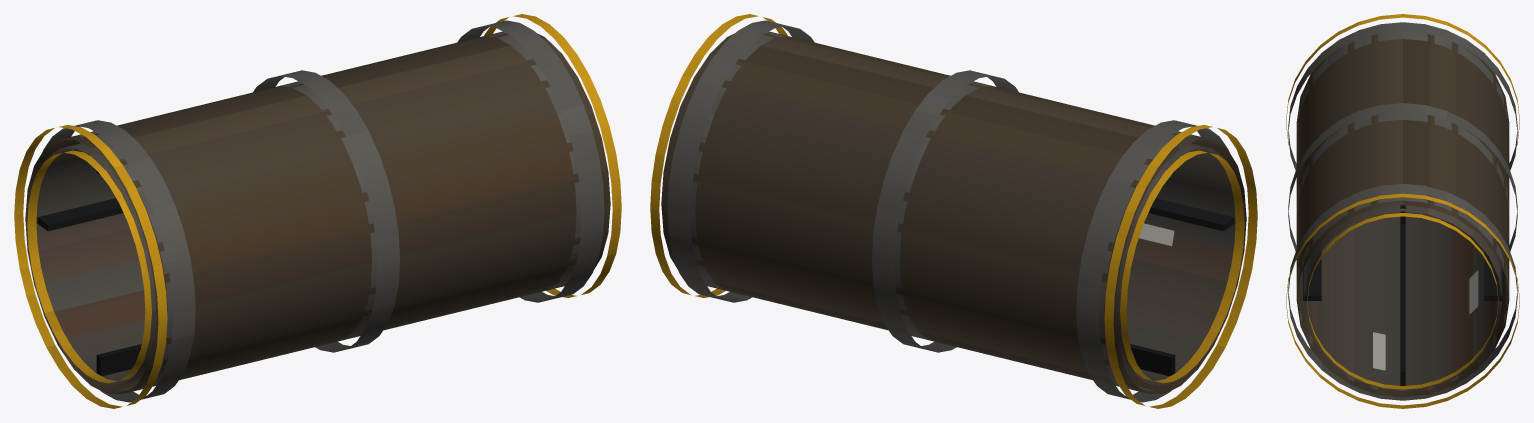
File: coating_drum.glb
3 views of the same model, side by side, from view 1: azimuth 30°, elevation 25°; view 2: azimuth 150°, elevation 25°; view 3: azimuth 270°, elevation 25° (orthographic). The views are drawn at different scales.
Visible parts, largest first — view 1: Drum; view 2: Drum; view 3: Drum.
Part boxes in pixels (x1,y1,x2,y2): Drum: (14, 14, 621, 408); Drum: (650, 14, 1257, 408); Drum: (1286, 14, 1519, 408).
Bounding box in the file's own units: 6.12 × 3.3 × 3.3.
